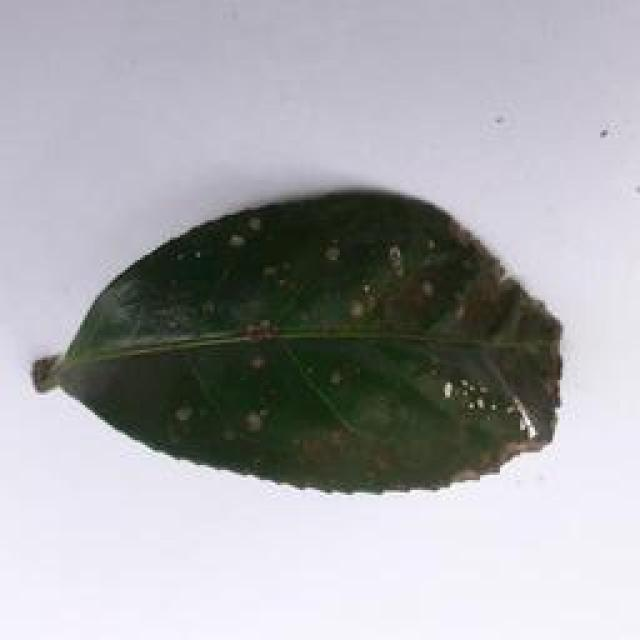Algal Leaf Spot: (20, 183, 572, 507)
